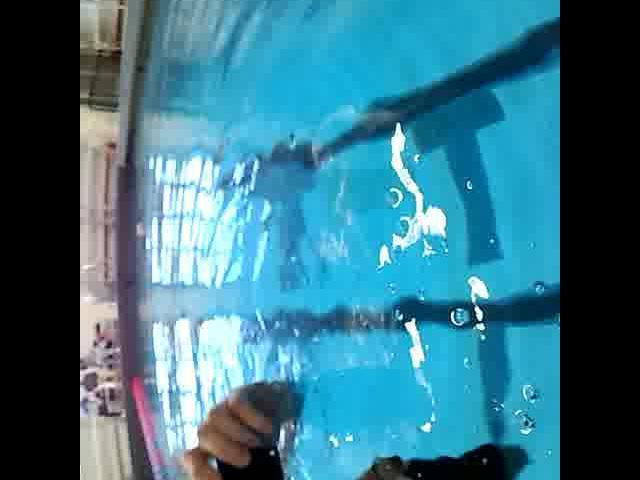CamMount: (207, 436, 297, 480)
